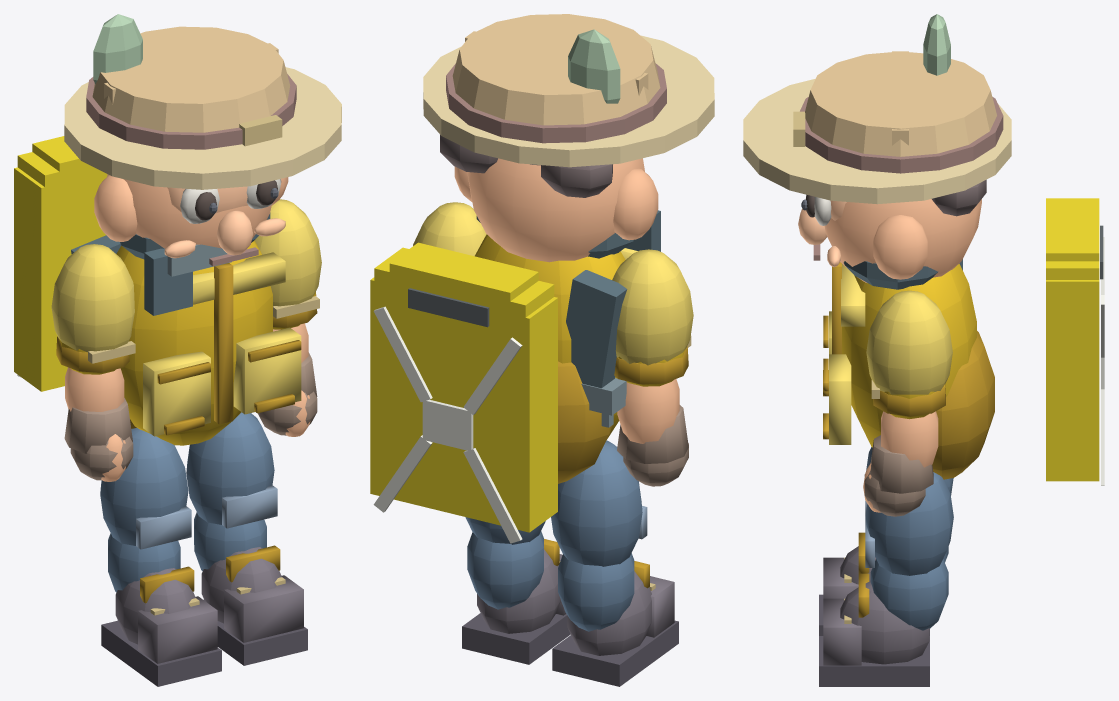
File: explorer.gltf
3 views of the same model, side by side, from view 1: azimuth 30°, elevation 25°; view 2: azimuth 150°, elevation 25°; view 3: azimuth 270°, elevation 25° (orthographic). The views are drawn at different scales.
Parts seen in each view (by area): view 1: ExplorerHead, ExplorerBody, ExplorerYellowWaterJug, ExplorerKneeLeft, ExplorerKneeRight, ExplorerArmLeft, ExplorerLegRight, ExplorerLegLeft, ExplorerElbowLeft, ExplorerArmRight, ExplorerElbowRight, ExplorerEyes; view 2: ExplorerHead, ExplorerYellowWaterJug, ExplorerKneeLeft, ExplorerKneeRight, ExplorerBody, ExplorerArmLeft, ExplorerLegLeft, ExplorerScarfTail, ExplorerElbowLeft, ExplorerArmRight, ExplorerLegRight; view 3: ExplorerHead, ExplorerBody, ExplorerYellowWaterJug, ExplorerKneeRight, ExplorerArmRight, ExplorerElbowRight, ExplorerLegRight, ExplorerKneeLeft, ExplorerEyes.
Boxes of the visible parts, box(x1,y1,x2,y2) form: ExplorerHead: box(64, 14, 341, 266); ExplorerBody: box(116, 213, 301, 445); ExplorerYellowWaterJug: box(14, 136, 107, 391); ExplorerKneeLeft: box(101, 533, 221, 686); ExplorerKneeRight: box(194, 512, 307, 665); ExplorerArmLeft: box(51, 244, 135, 374); ExplorerLegRight: box(186, 412, 277, 528); ExplorerLegLeft: box(100, 428, 191, 549); ExplorerElbowLeft: box(64, 367, 133, 481); ExplorerArmRight: box(254, 199, 321, 329); ExplorerElbowRight: box(258, 323, 317, 436); ExplorerEyes: box(180, 179, 281, 223); ExplorerHead: box(423, 14, 714, 262); ExplorerYellowWaterJug: box(370, 242, 557, 543); ExplorerKneeLeft: box(552, 553, 678, 686); ExplorerKneeRight: box(462, 531, 570, 664); ExplorerBody: box(475, 210, 660, 483); ExplorerArmLeft: box(612, 249, 693, 386); ExplorerLegLeft: box(551, 440, 647, 566); ExplorerScarfTail: box(566, 270, 627, 427); ExplorerElbowLeft: box(617, 379, 688, 486); ExplorerArmRight: box(413, 202, 486, 256); ExplorerLegRight: box(465, 517, 545, 544); ExplorerHead: box(743, 14, 1011, 282); ExplorerBody: box(823, 261, 994, 479); ExplorerYellowWaterJug: box(1046, 198, 1104, 485); ExplorerKneeRight: box(819, 559, 948, 686); ExplorerArmRight: box(866, 290, 952, 419); ExplorerElbowRight: box(863, 411, 938, 516); ExplorerLegRight: box(865, 472, 953, 575); ExplorerKneeLeft: box(819, 532, 948, 635); ExplorerEyes: box(801, 194, 831, 225).
Size of the model in its own units: 1.29 by 2.98 by 1.6.
